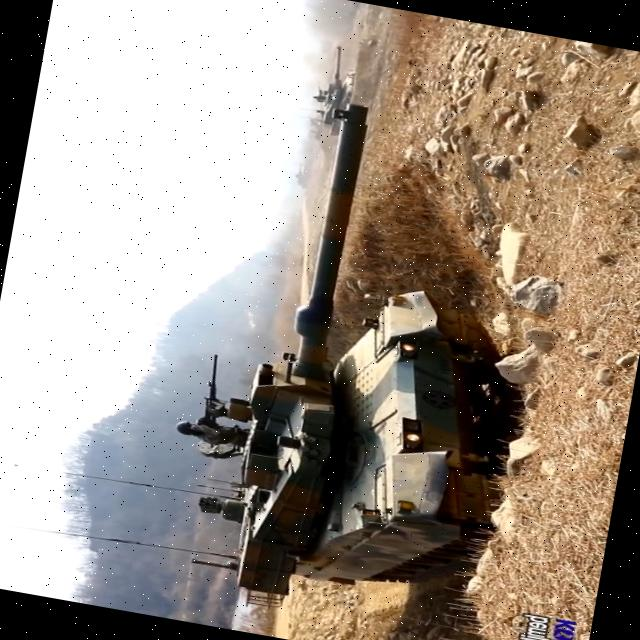korea tank: (145, 82, 565, 640)
